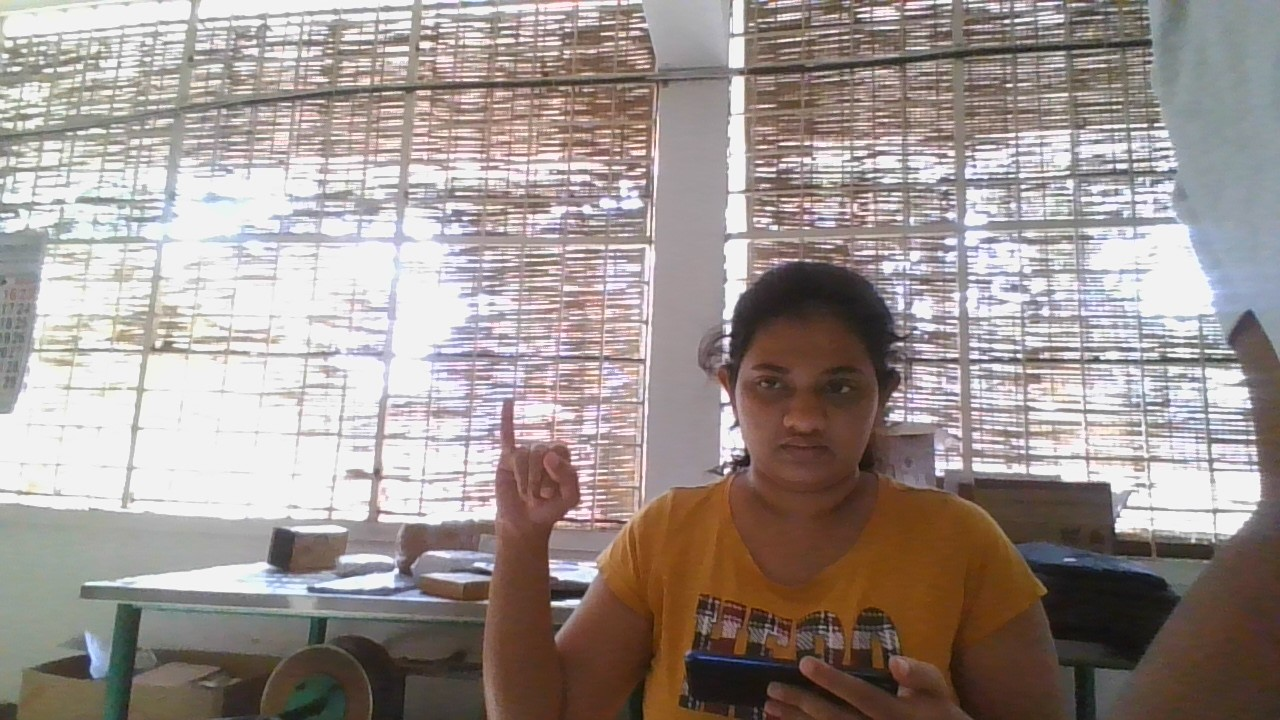i: (473, 396, 596, 548)
